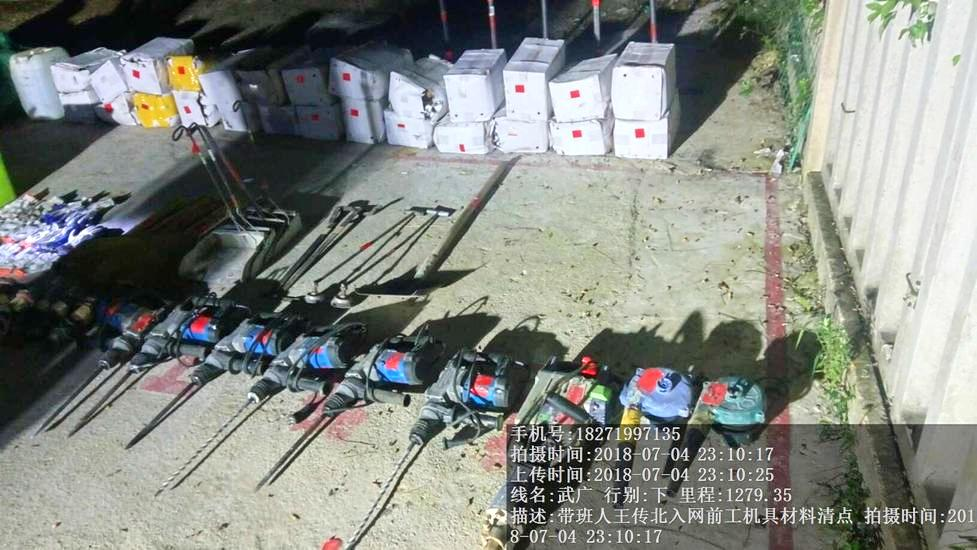DZ: (394, 353, 511, 481), (216, 335, 336, 428), (311, 344, 419, 434)
